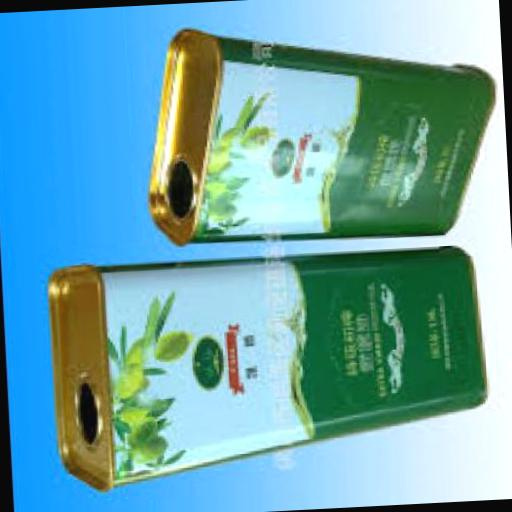metal: (48, 236, 488, 497), (136, 14, 498, 256)
